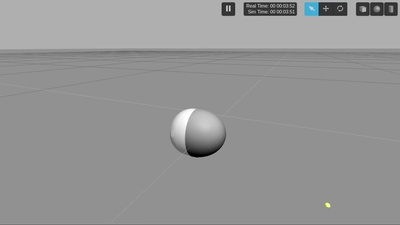mira_robot: (170, 108, 226, 158)
